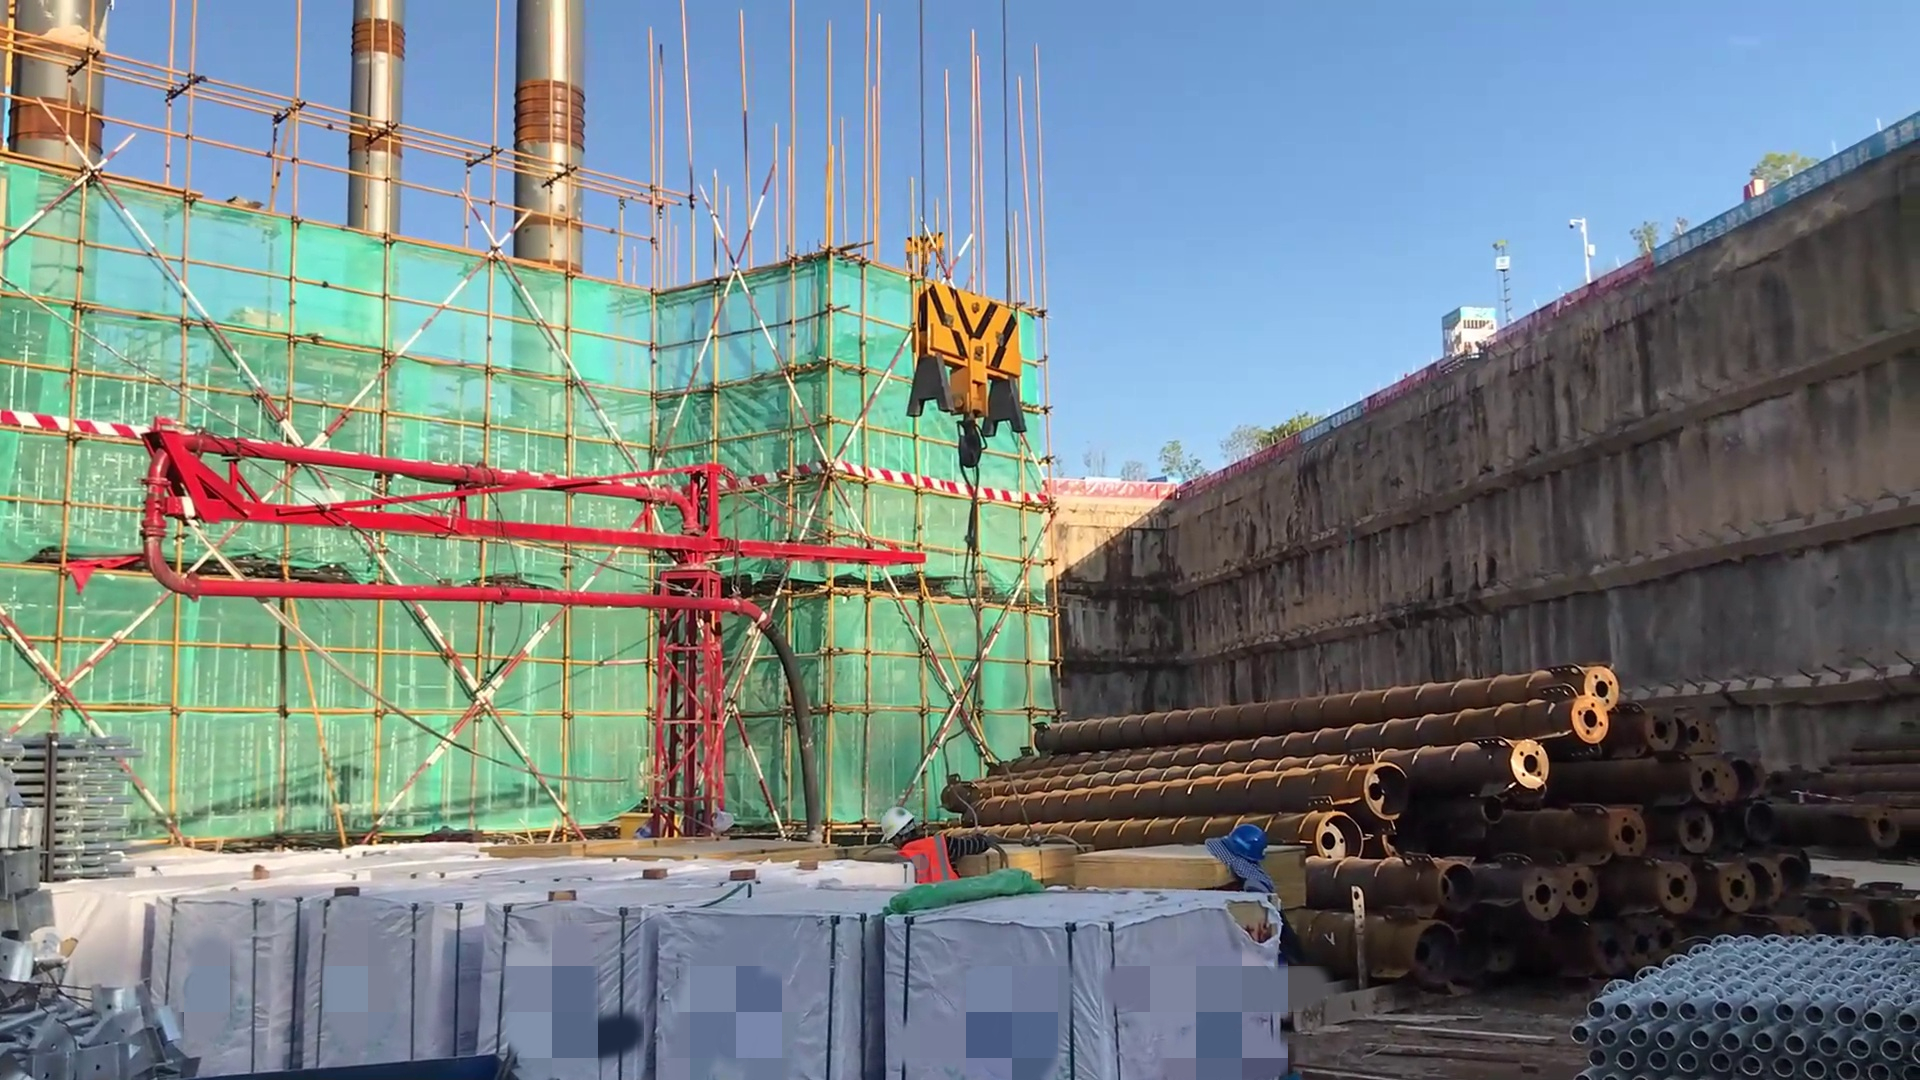board: (1058, 838, 1236, 897), (993, 840, 1091, 888)
ebox: (606, 807, 681, 853)
helmet: (1215, 821, 1275, 869), (874, 803, 929, 851)
hook: (905, 273, 1051, 513)
person: (1199, 817, 1308, 1058), (830, 798, 1010, 915)
scaffold: (1565, 921, 1920, 1075), (19, 720, 168, 885)
slogan: (1640, 115, 1920, 282), (1291, 392, 1377, 444)
vest: (878, 832, 968, 889)
